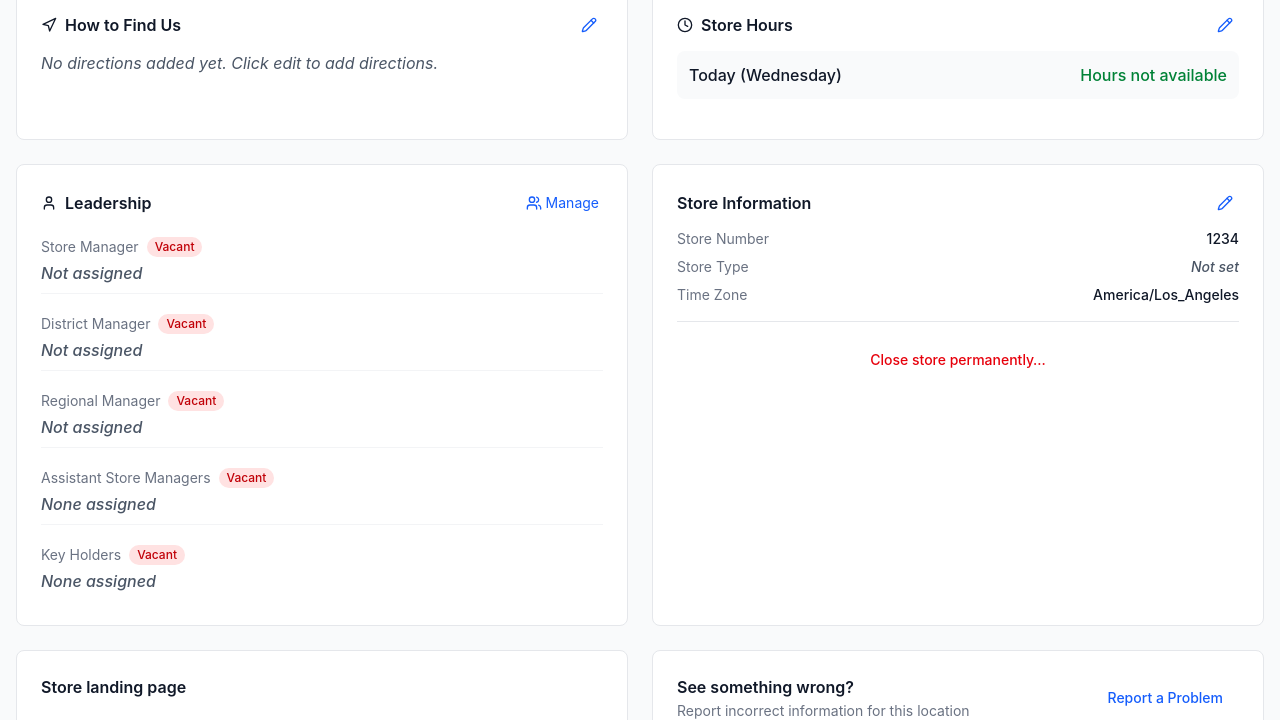
Test: LocationDetailView close and restore › lists active people from the assignments route
The width and height of the screenshot is (1280, 720).
(page scrolled)
Click the button "Close store permanently…".
click(958, 360)  # box [677, 338, 1239, 382]
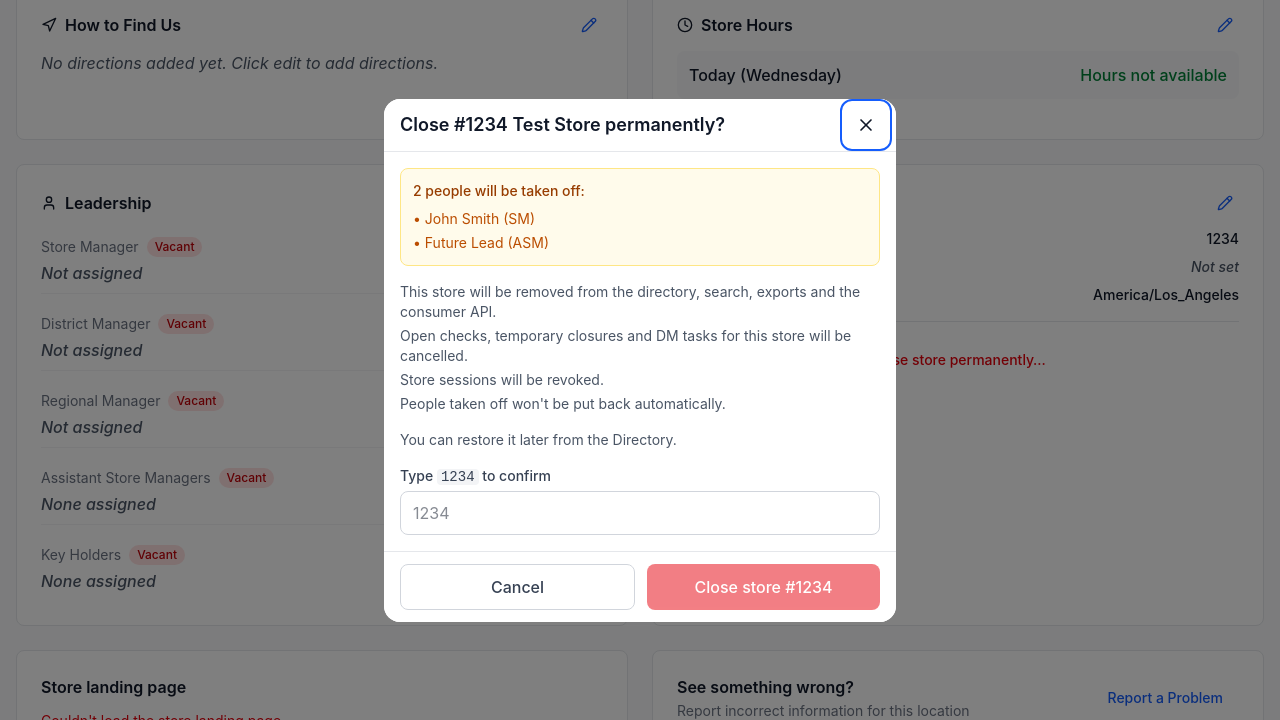
Now the dialog is shown, box [384, 98, 896, 622]
Now the list item "• John Smith (SM)" is shown, box [413, 210, 535, 226]
Now the list item "• Future Lead (ASM)" is shown, box [413, 234, 549, 250]
